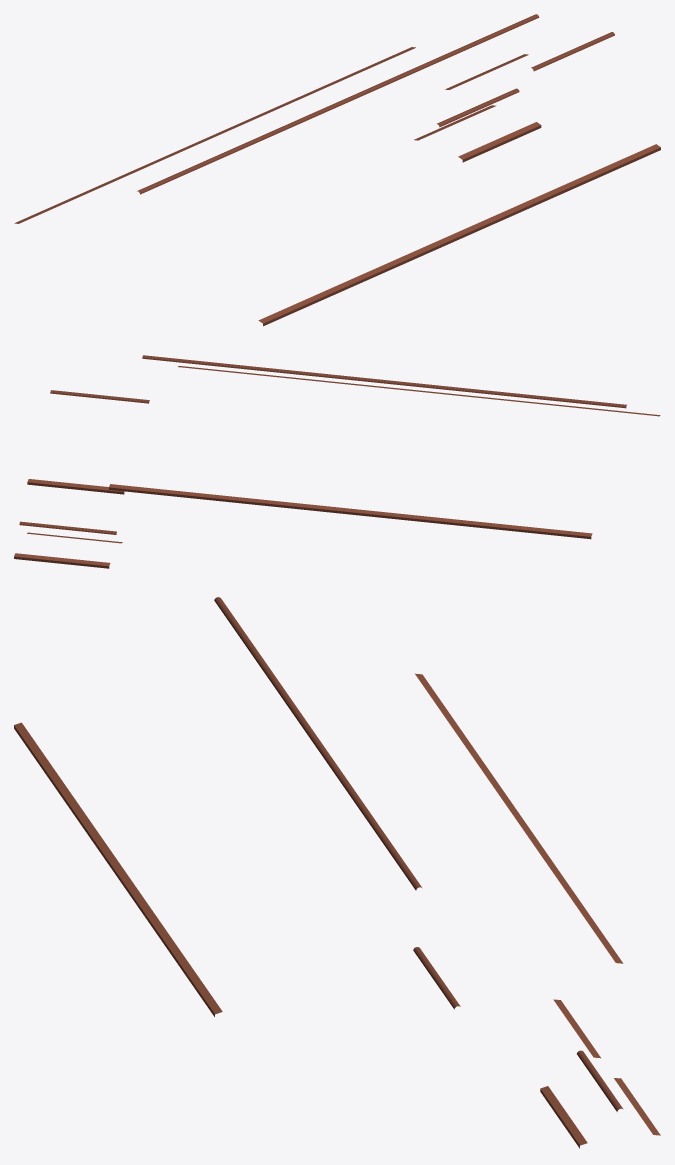
3 renders of one model, top to bottom at view 1: azimuth 30°, elevation 25°; view 2: azimuth 150°, elevation 25°; view 3: azimuth 270°, elevation 25°, orthographic. The views are drawn at different scales.
Parts seen in each view (by area): view 1: detail; view 2: detail; view 3: detail.
Part boxes in pixels (bbox=[...]): detail: bbox=[14, 14, 660, 326]; detail: bbox=[14, 355, 660, 568]; detail: bbox=[14, 597, 660, 1148].
Bounding box in the file's own units: 34.73 × 9.73 × 25.61.
